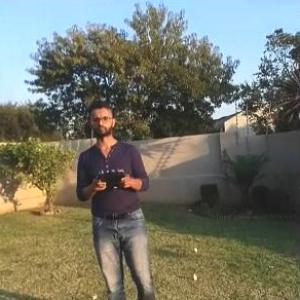follow: (74, 94, 163, 299)
